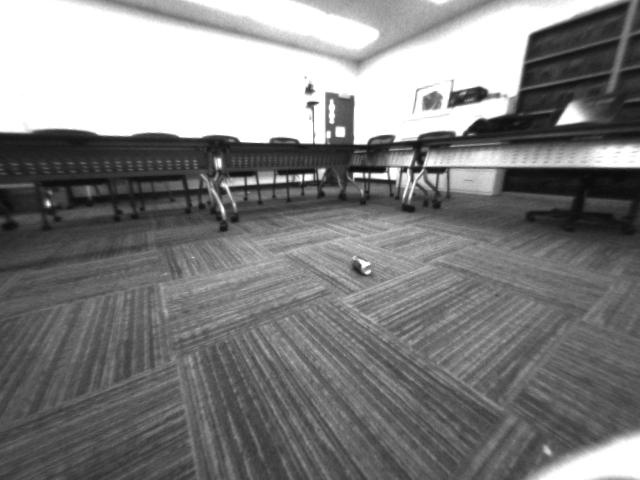can: (345, 247, 375, 279)
